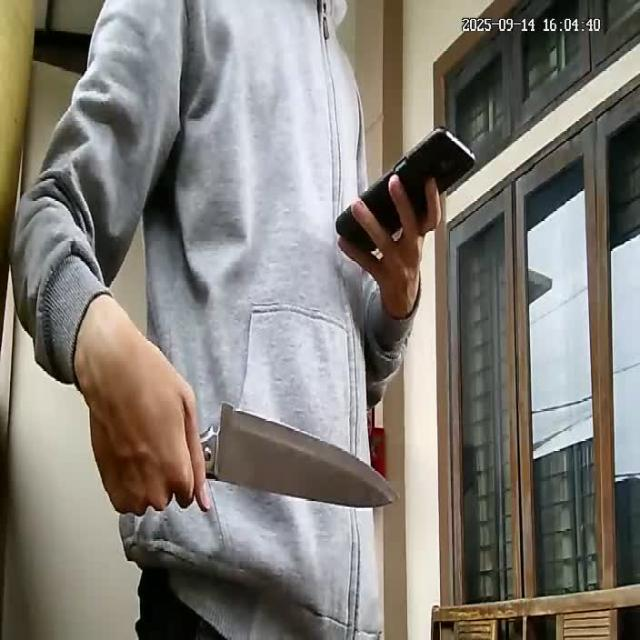senjata_tajam: (205, 399, 402, 512)
